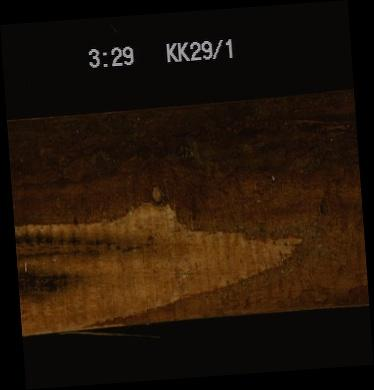wave: (13, 106, 360, 316)
